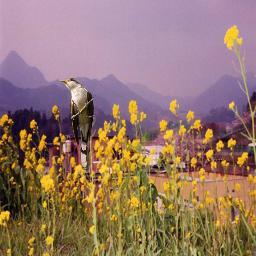Cuckoo: (60, 78, 94, 170)
